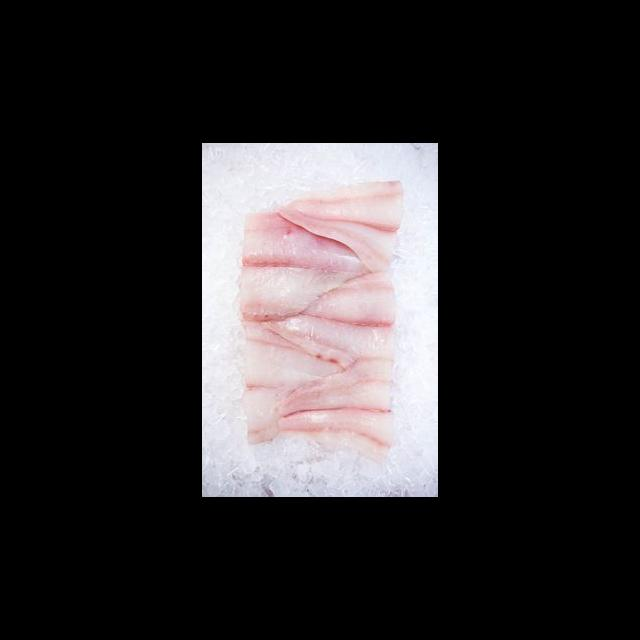fish: (276, 174, 407, 276)
